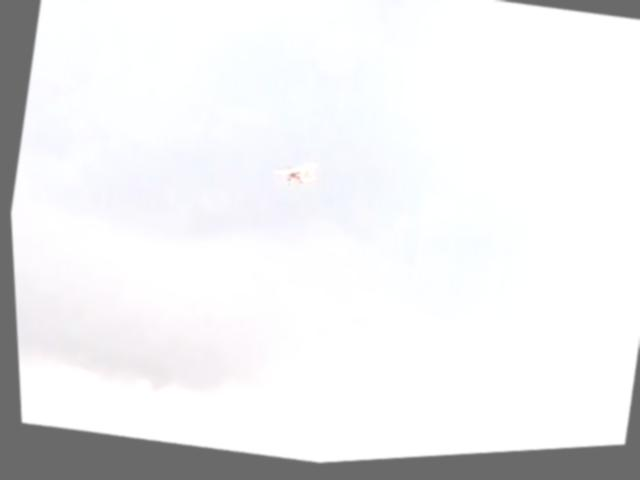plane: (270, 160, 318, 194)
